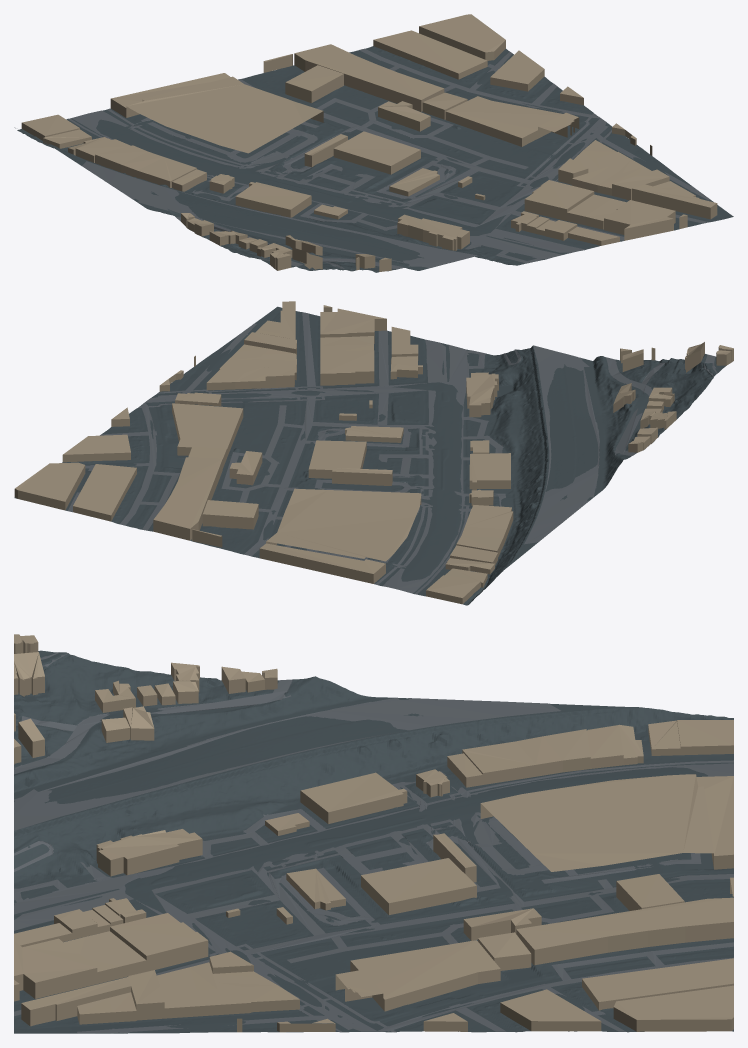
File: epsg26910-1438-10878.lod0.glb
3 views of the same model, one above another, from view 1: azimuth 30°, elevation 25°; view 2: azimuth 150°, elevation 25°; view 3: azimuth 270°, elevation 25° (orthographic). The views are drawn at different scales.
Visible parts, largest first — view 1: epsg26910-1438-10878-lod0; view 2: epsg26910-1438-10878-lod0; view 3: epsg26910-1438-10878-lod0.
Part boxes in pixels (bbox=[...]): epsg26910-1438-10878-lod0: bbox=[14, 14, 733, 272]; epsg26910-1438-10878-lod0: bbox=[14, 301, 733, 605]; epsg26910-1438-10878-lod0: bbox=[14, 634, 733, 1033].
Bounding box in the file's own units: 384 × 56.33 × 384.
